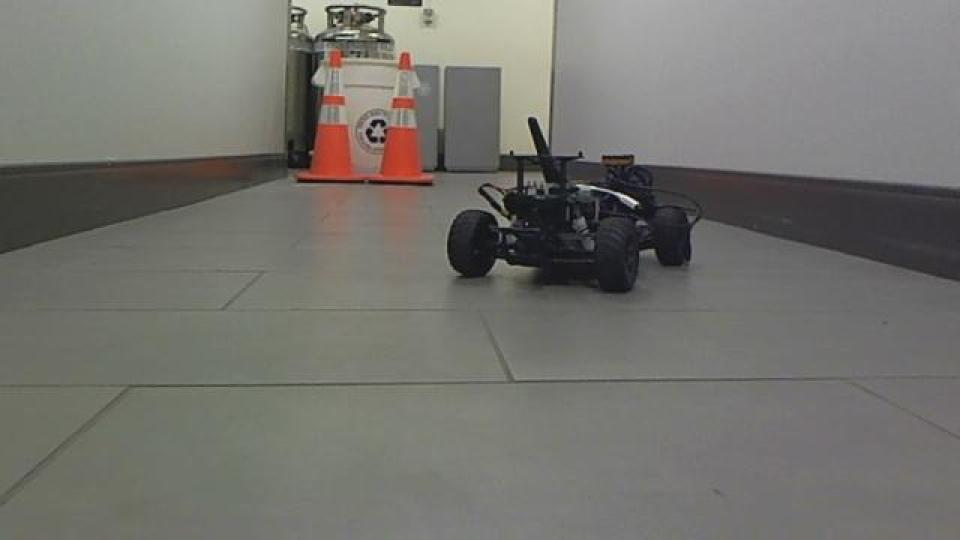car: (443, 114, 705, 296)
